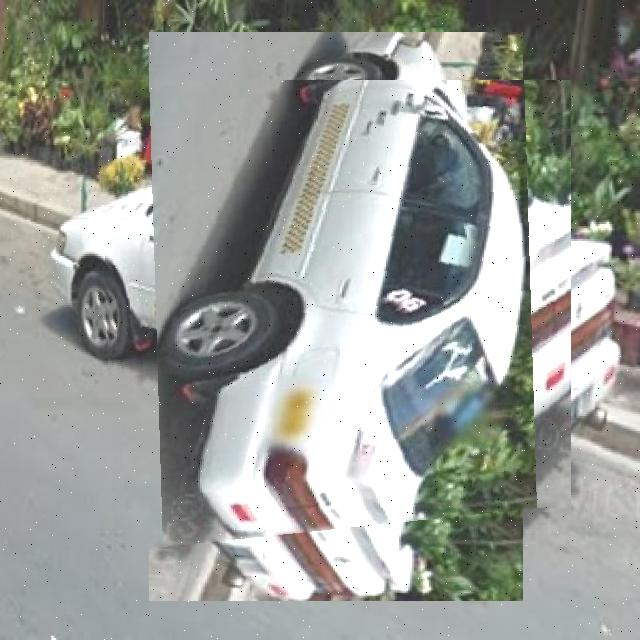car: (101, 82, 572, 554)
